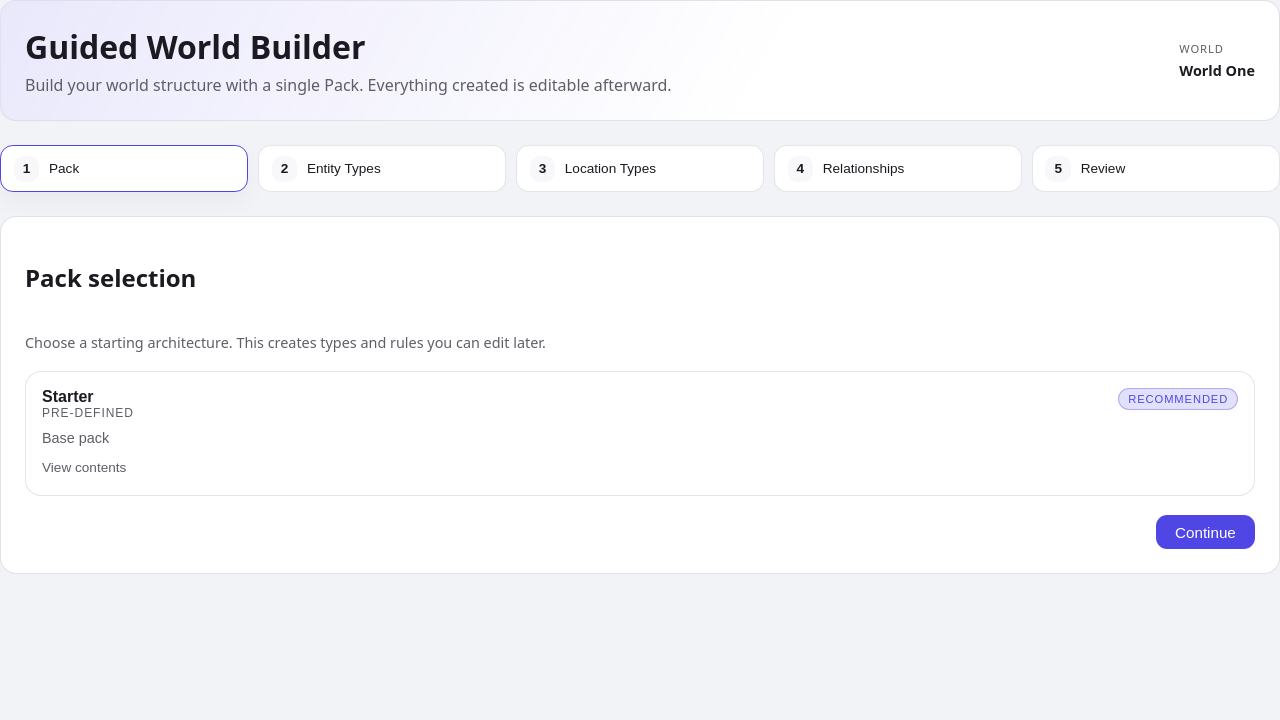
WorldBuilder › renders the hierarchy editor with drag handles
Click the text "Starter": click(68, 397) [42, 388, 94, 405]
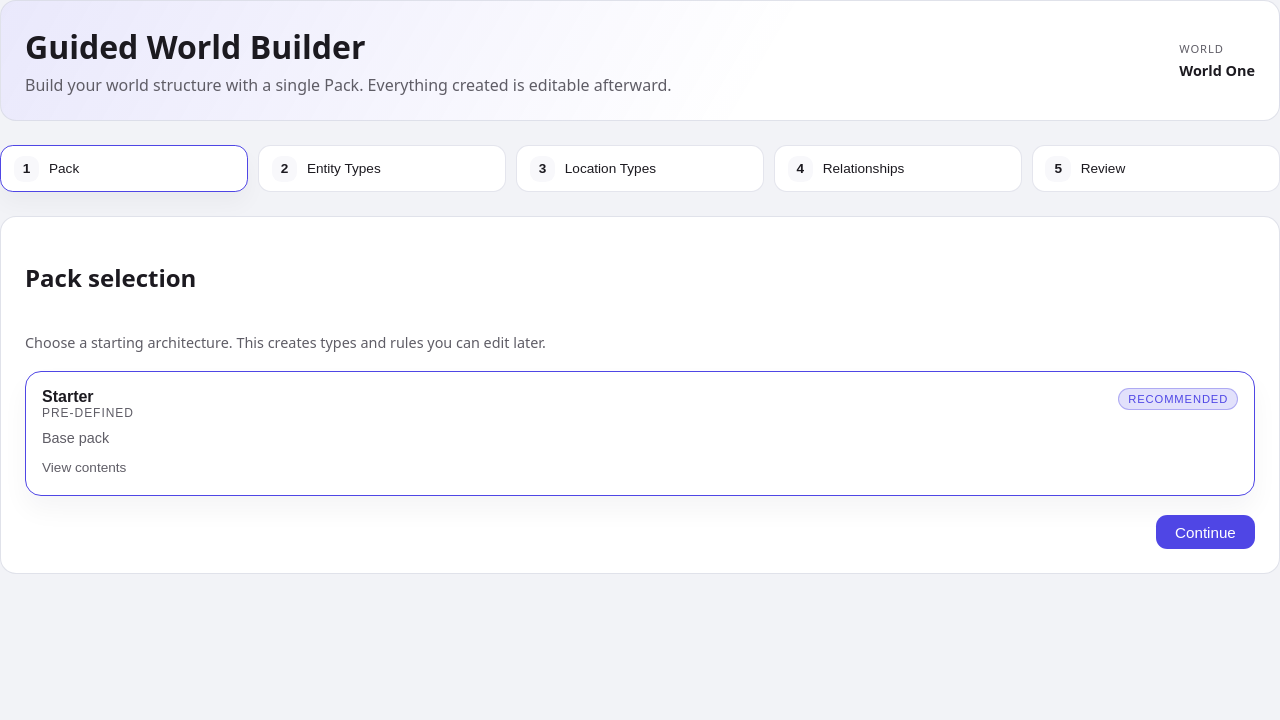
Click the button "Continue": click(1205, 532) [1156, 515, 1255, 549]
(page scrolled)
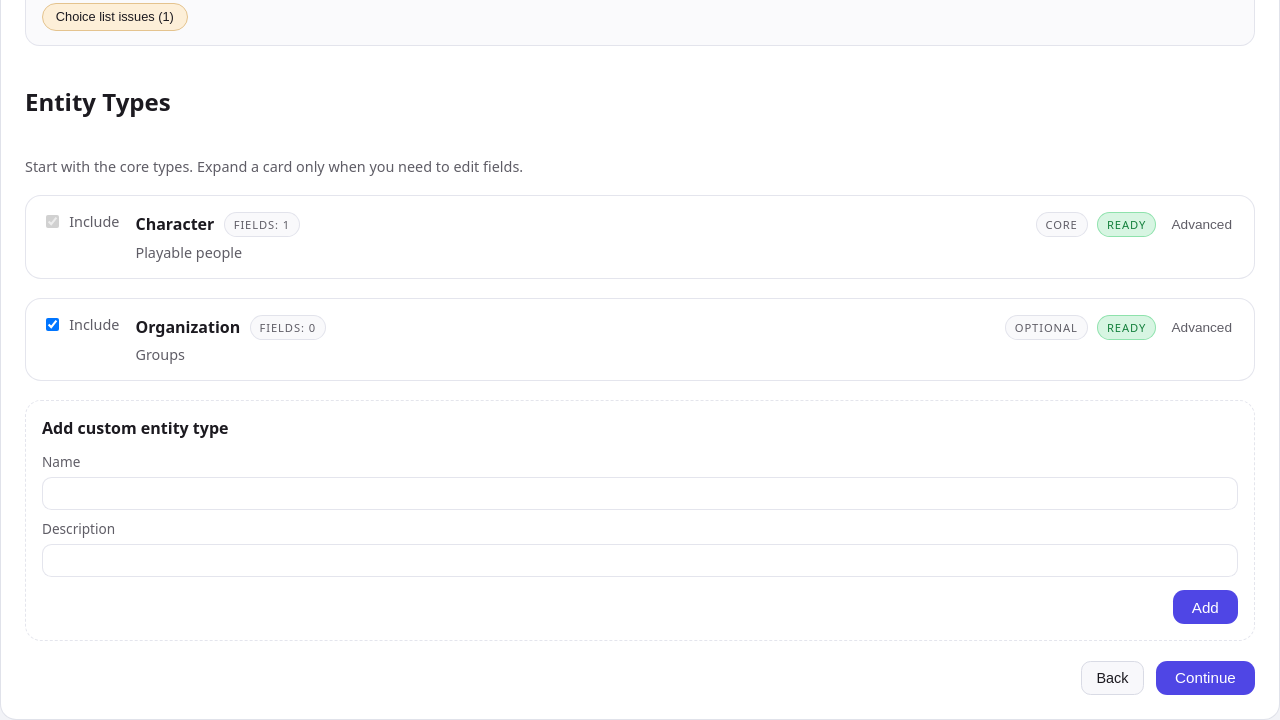
Expected: the heading "Entity Types" is shown, [25, 85, 171, 118]
Click the button "Continue": click(1205, 678) [1156, 661, 1255, 695]
(page scrolled)
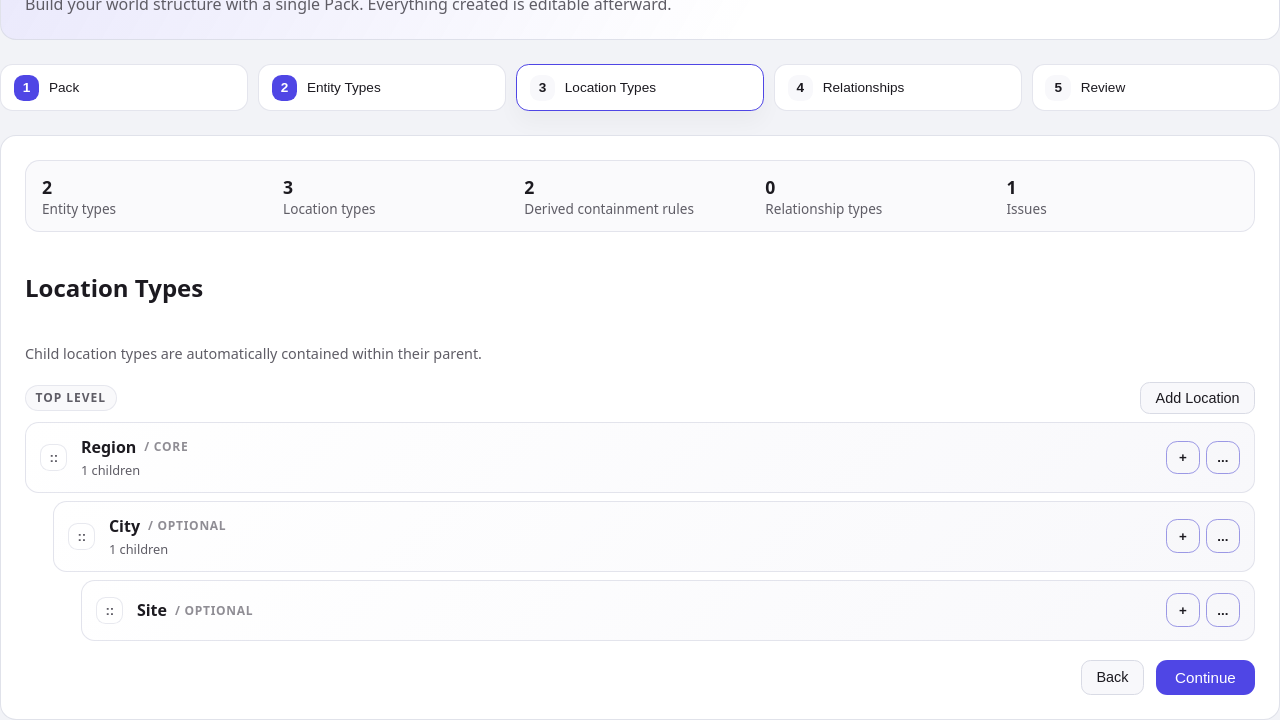
Expected: the heading "Location Types" is shown, [25, 272, 203, 304]
Expected: the text "Region" is shown, [81, 436, 136, 458]
Expected: the text "City" is shown, [109, 515, 140, 537]
